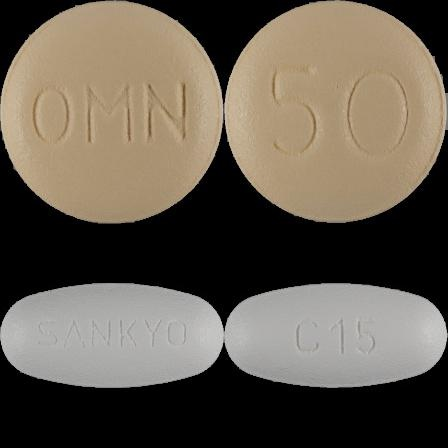55289-433: (0, 0, 224, 224)
